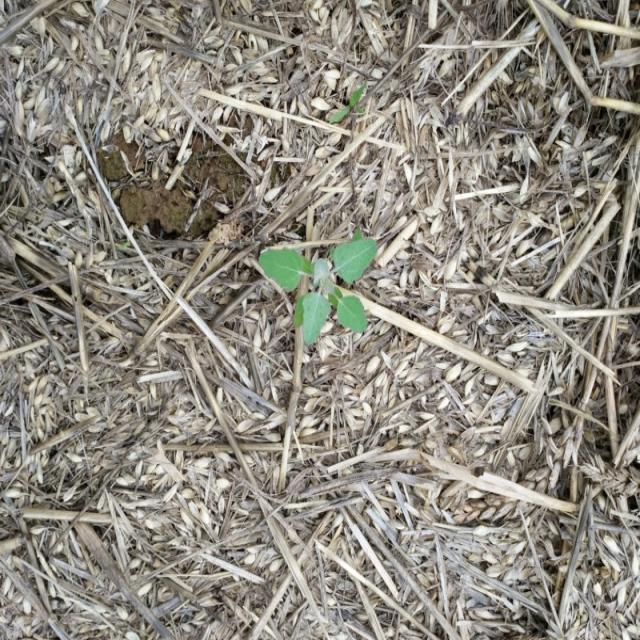goosefoots: (256, 207, 394, 356)
